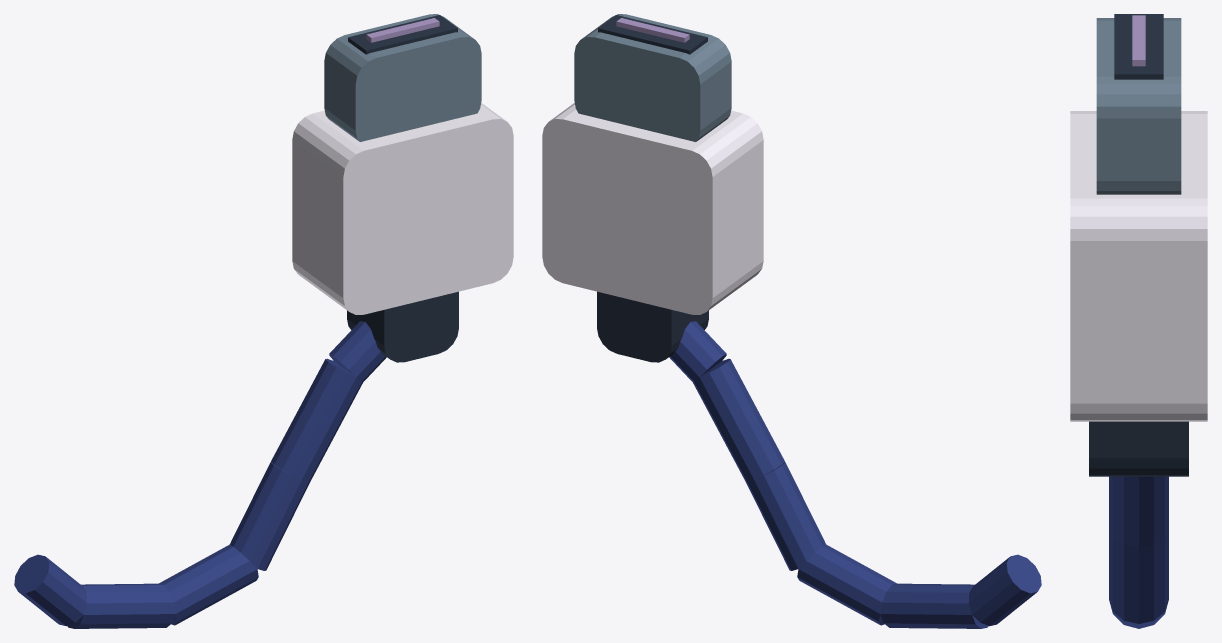
File: usbc.glb
3 renders of one model, left to right at view 1: azimuth 30°, elevation 25°; view 2: azimuth 150°, elevation 25°; view 3: azimuth 270°, elevation 25°, orthographic. The views are drawn at different scales.
Visible parts, largest first — view 1: plug sleeve, metal plug, rubber cable4, strain relief, rubber cable3, rubber cable1, rubber cable2, rubber cable0, rubber cable5, plug opening, contact tongue; view 2: plug sleeve, metal plug, rubber cable4, strain relief, rubber cable3, rubber cable1, rubber cable2, rubber cable0, rubber cable5, plug opening, contact tongue; view 3: plug sleeve, metal plug, strain relief, rubber cable3, rubber cable4, plug opening, contact tongue, rubber cable2.
Boxes of the visible parts, box(x1,y1,x2,y2) form: plug sleeve: box(292, 103, 513, 314); metal plug: box(324, 14, 481, 141); rubber cable4: box(271, 358, 362, 481); strain relief: box(347, 291, 458, 362); rubber cable3: box(230, 462, 309, 570); rubber cable1: box(67, 583, 175, 628); rubber cable2: box(159, 544, 258, 625); rubber cable0: box(14, 554, 87, 626); rubber cable5: box(329, 321, 386, 381); plug opening: box(348, 15, 457, 54); contact tongue: box(366, 18, 439, 42); plug sleeve: box(542, 103, 763, 314); metal plug: box(574, 14, 731, 141); rubber cable4: box(693, 358, 784, 481); strain relief: box(597, 291, 708, 362); rubber cable3: box(746, 462, 825, 570); rubber cable1: box(880, 583, 988, 628); rubber cable2: box(797, 544, 896, 625); rubber cable0: box(968, 554, 1041, 626); rubber cable5: box(669, 321, 726, 381); plug opening: box(598, 15, 707, 54); contact tongue: box(616, 18, 689, 42); plug sleeve: box(1070, 111, 1207, 421); metal plug: box(1096, 18, 1181, 194); strain relief: box(1089, 421, 1188, 476); rubber cable3: box(1109, 524, 1168, 623); rubber cable4: box(1109, 476, 1168, 547); plug opening: box(1114, 14, 1163, 79); contact tongue: box(1132, 15, 1145, 66); rubber cable2: box(1109, 602, 1168, 628).
Size of the model in its own units: 1.38 by 1.51 by 0.26.
